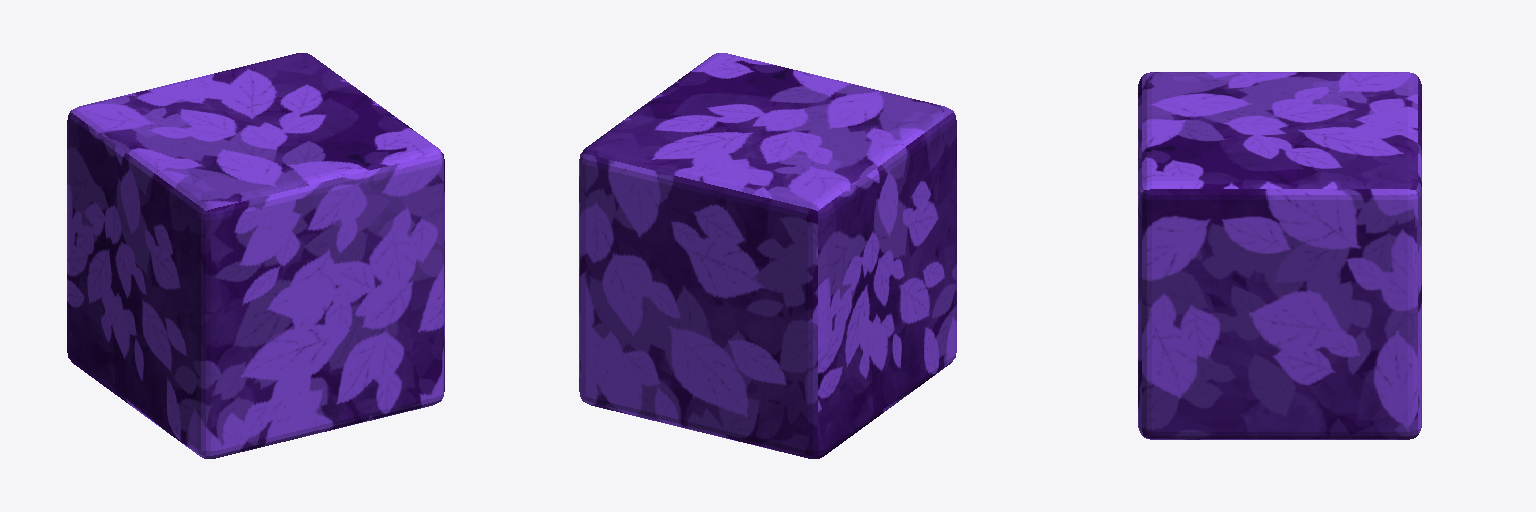
3 renders of one model, left to right at view 1: azimuth 30°, elevation 25°; view 2: azimuth 150°, elevation 25°; view 3: azimuth 270°, elevation 25°, orthographic.
Visible parts, largest first — view 1: Cube; view 2: Cube; view 3: Cube.
Boxes of the visible parts, box(x1,y1,x2,y2) form: Cube: box(67, 53, 444, 458); Cube: box(579, 53, 956, 458); Cube: box(1138, 72, 1421, 439).
Bounding box in the file's own units: 2 × 2 × 2.
1 materials, 1 textured.